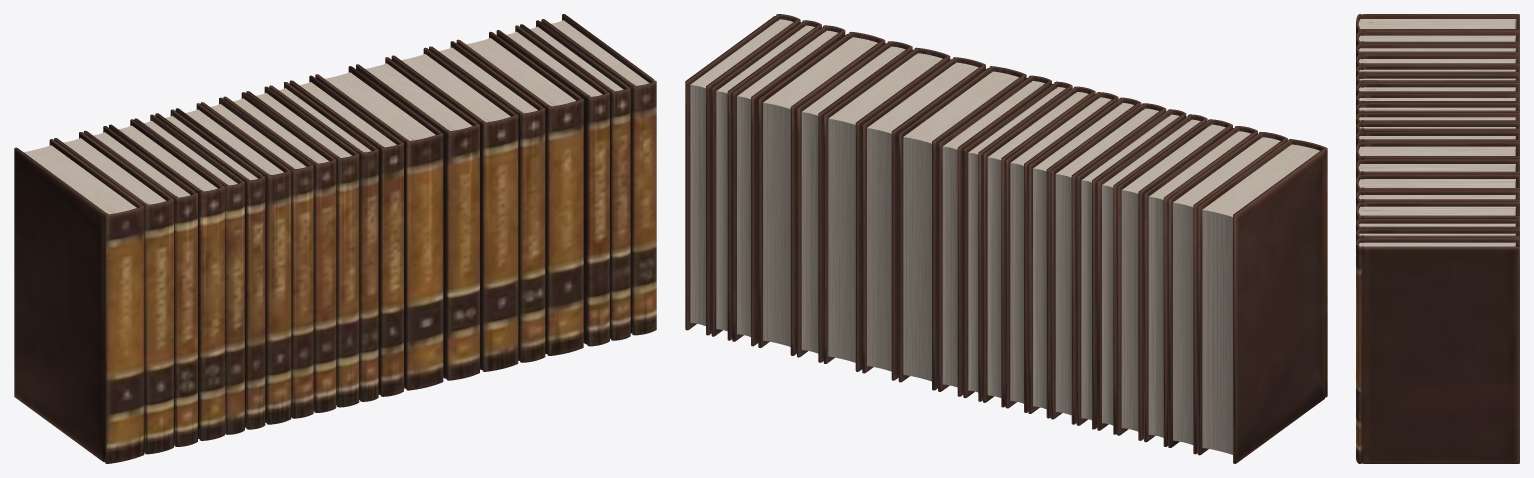
Rendered from book_encyclopedia_set_01.glb.
3 renders of one model, left to right at view 1: azimuth 30°, elevation 25°; view 2: azimuth 150°, elevation 25°; view 3: azimuth 270°, elevation 25°, orthographic. The views are drawn at different scales.
Visible parts, largest first — view 1: book_encyclopedia_set_01_book01; view 2: book_encyclopedia_set_01_book01; view 3: book_encyclopedia_set_01_book01.
Boxes of the visible parts, <box> form: book_encyclopedia_set_01_book01: <box>14,14,656,463</box>; book_encyclopedia_set_01_book01: <box>685,14,1327,463</box>; book_encyclopedia_set_01_book01: <box>1356,14,1519,463</box>.
Size of the model in its own units: 0.5513 by 0.2374 by 0.1631.
Materials: 2 (2 with a texture image).
